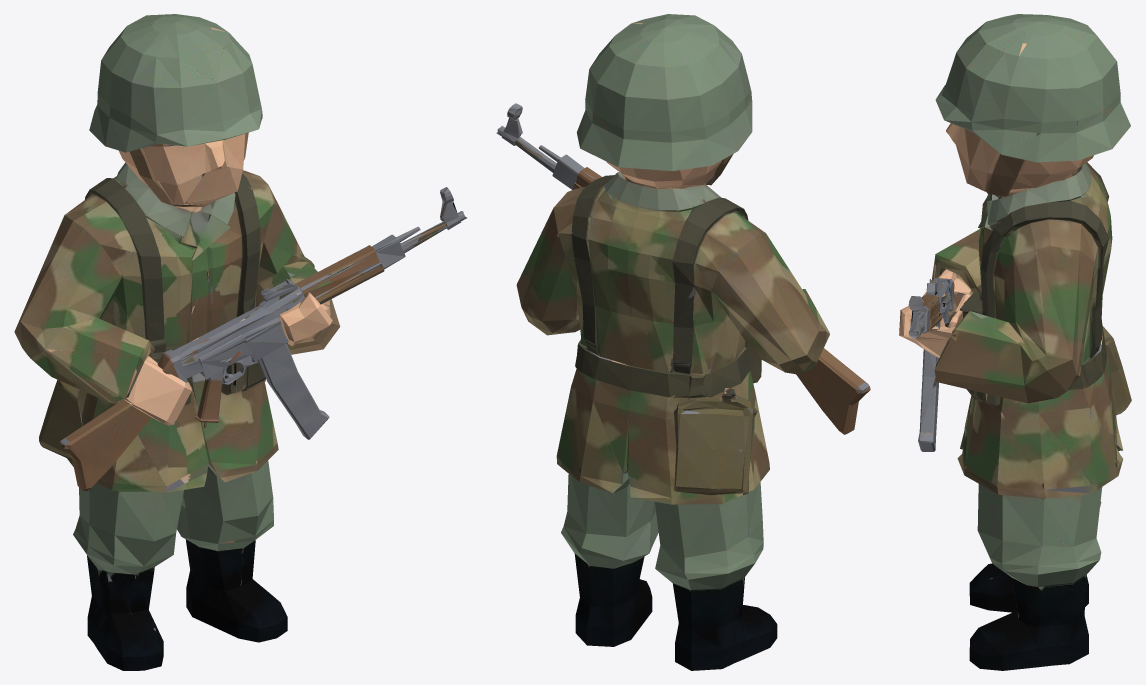
File: bulge_german_airborne_0.glb
3 renders of one model, left to right at view 1: azimuth 30°, elevation 25°; view 2: azimuth 150°, elevation 25°; view 3: azimuth 270°, elevation 25°, orthographic.
Visible parts, largest first — view 1: geometry_0; view 2: geometry_0; view 3: geometry_0.
Boxes of the visible parts, box(x1,y1,x2,y2) form: geometry_0: box(14, 14, 466, 670); geometry_0: box(496, 14, 870, 670); geometry_0: box(899, 14, 1131, 670).
Size of the model in its own units: 0.2161 by 0.324 by 0.1126.
Materials: 1 (1 with a texture image).
